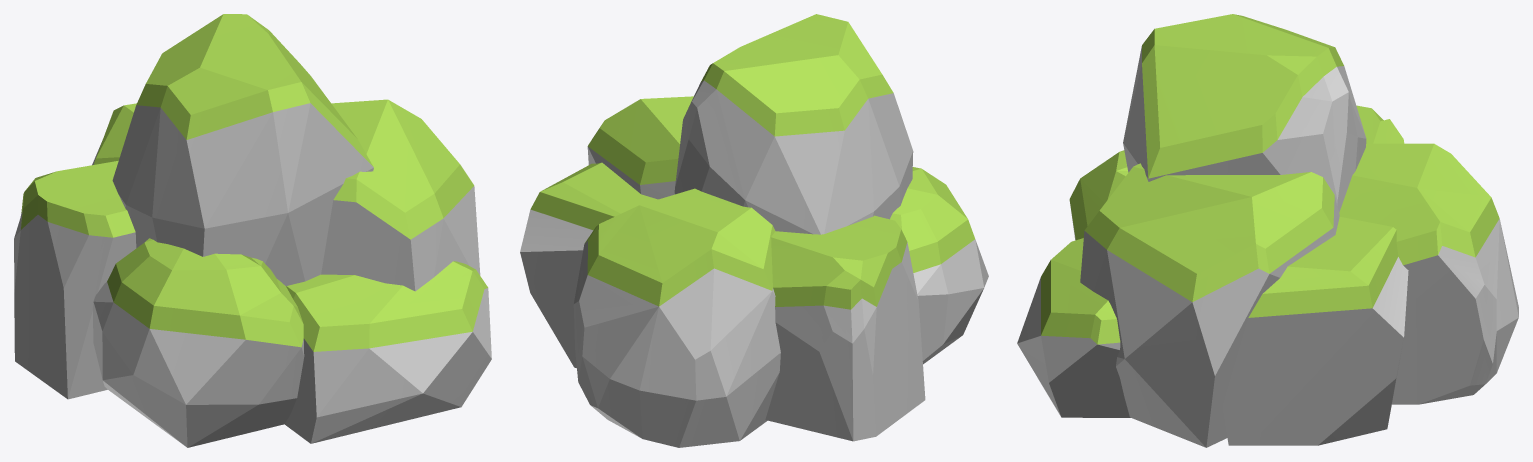
The model's file is Grey_Rock2.obj.
3 renders of one model, left to right at view 1: azimuth 30°, elevation 25°; view 2: azimuth 150°, elevation 25°; view 3: azimuth 270°, elevation 25°, orthographic. The views are drawn at different scales.
Visible parts, largest first — view 1: PP_Rock_Moss_Grown_09; view 2: PP_Rock_Moss_Grown_09; view 3: PP_Rock_Moss_Grown_09.
Part boxes in pixels (x1=…): PP_Rock_Moss_Grown_09: x1=14, y1=14, x2=491, y2=447; PP_Rock_Moss_Grown_09: x1=520, y1=14, x2=988, y2=447; PP_Rock_Moss_Grown_09: x1=1017, y1=14, x2=1518, y2=447.
Bounding box in the file's own units: 3.36 × 2.74 × 3.86.
Materials: 1 (1 with a texture image).
